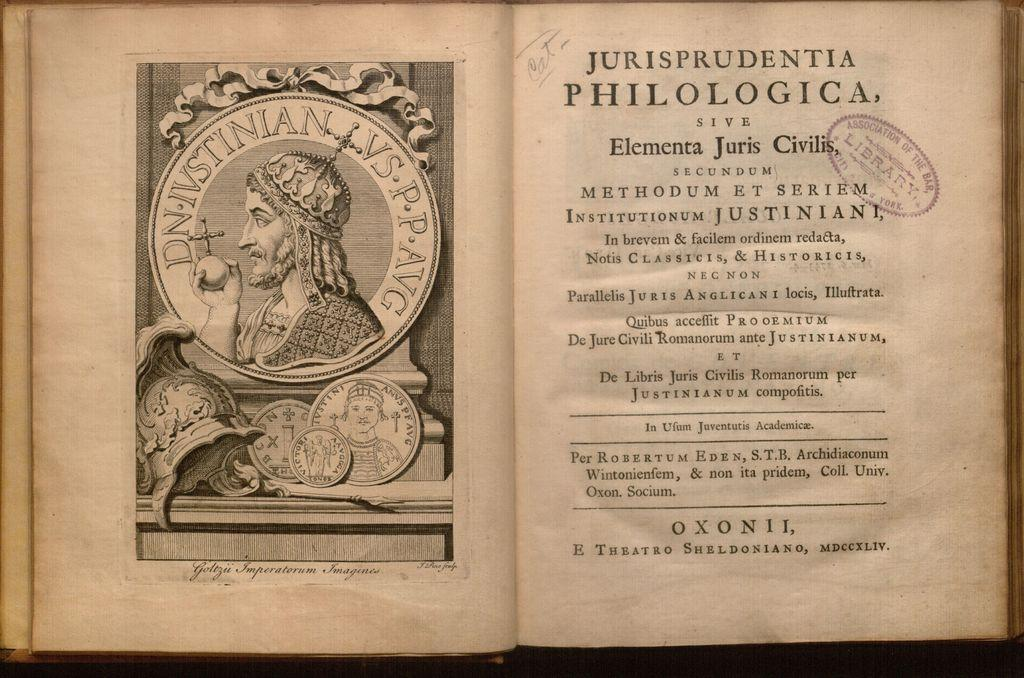book: (0, 0, 1023, 668)
